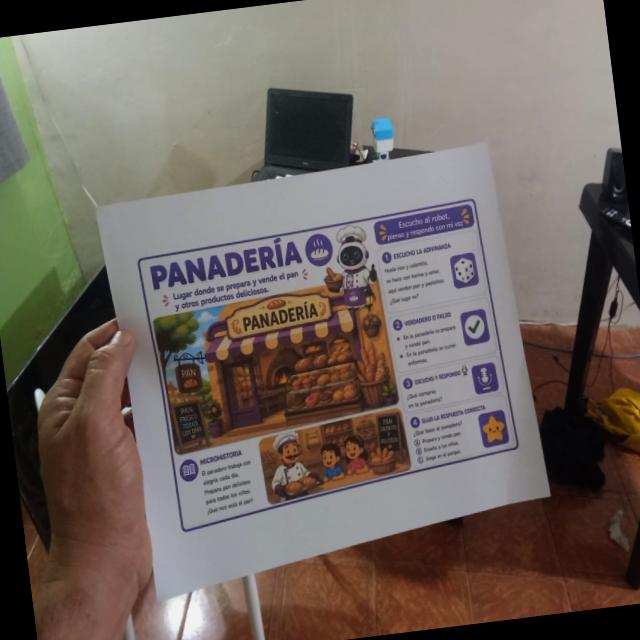panaderia: (128, 189, 529, 542)
